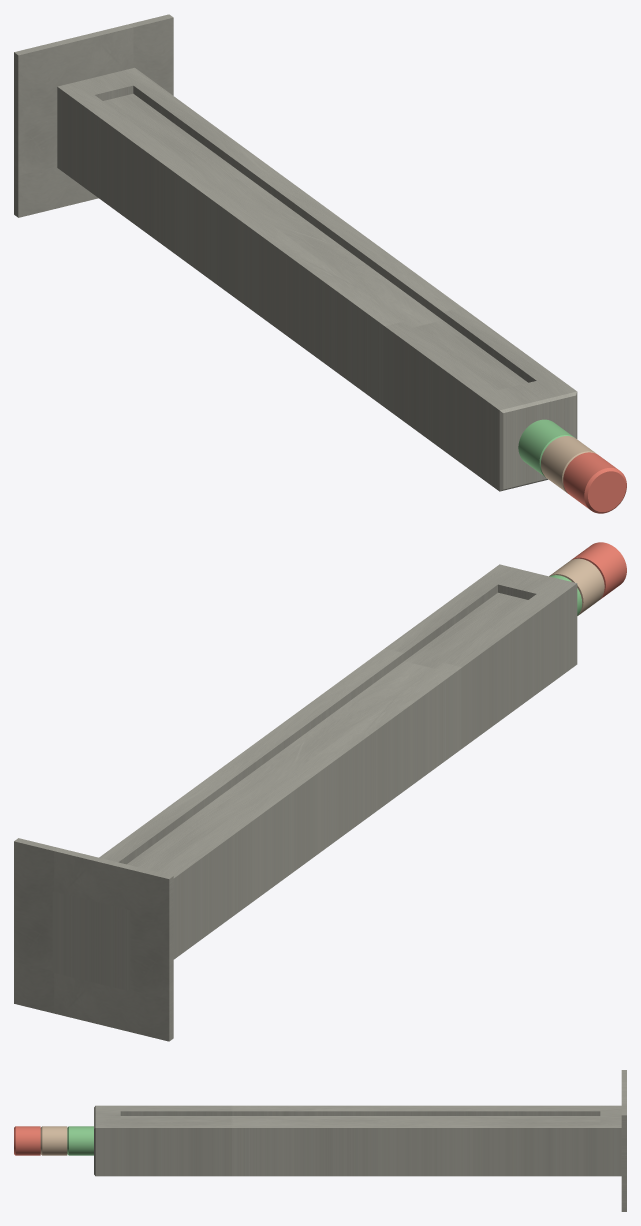
File: SignalPole.glb
3 renders of one model, top to bottom at view 1: azimuth 30°, elevation 25°; view 2: azimuth 150°, elevation 25°; view 3: azimuth 270°, elevation 25°, orthographic. The views are drawn at different scales.
Parts seen in each view (by area): view 1: MetalBody, MetalPlatform, RedLight, GreenLight, YellowLight; view 2: MetalBody, MetalPlatform, RedLight, YellowLight; view 3: MetalBody, MetalPlatform, YellowLight, GreenLight, RedLight.
Boxes of the visible parts, x1,y1,x2,y2 form: MetalBody: [57, 67, 577, 491]; MetalPlatform: [14, 14, 173, 217]; RedLight: [563, 452, 626, 513]; GreenLight: [518, 419, 574, 477]; YellowLight: [541, 436, 596, 493]; MetalBody: [52, 564, 577, 991]; MetalPlatform: [14, 838, 173, 1041]; RedLight: [571, 542, 626, 599]; YellowLight: [549, 558, 604, 615]; MetalBody: [94, 1105, 621, 1176]; MetalPlatform: [621, 1070, 626, 1211]; YellowLight: [40, 1126, 67, 1155]; GreenLight: [67, 1126, 93, 1155]; RedLight: [14, 1126, 40, 1155].
Size of the model in its own units: 0.2 by 0.2 by 1.15.
Materials: 4 (1 with a texture image).
